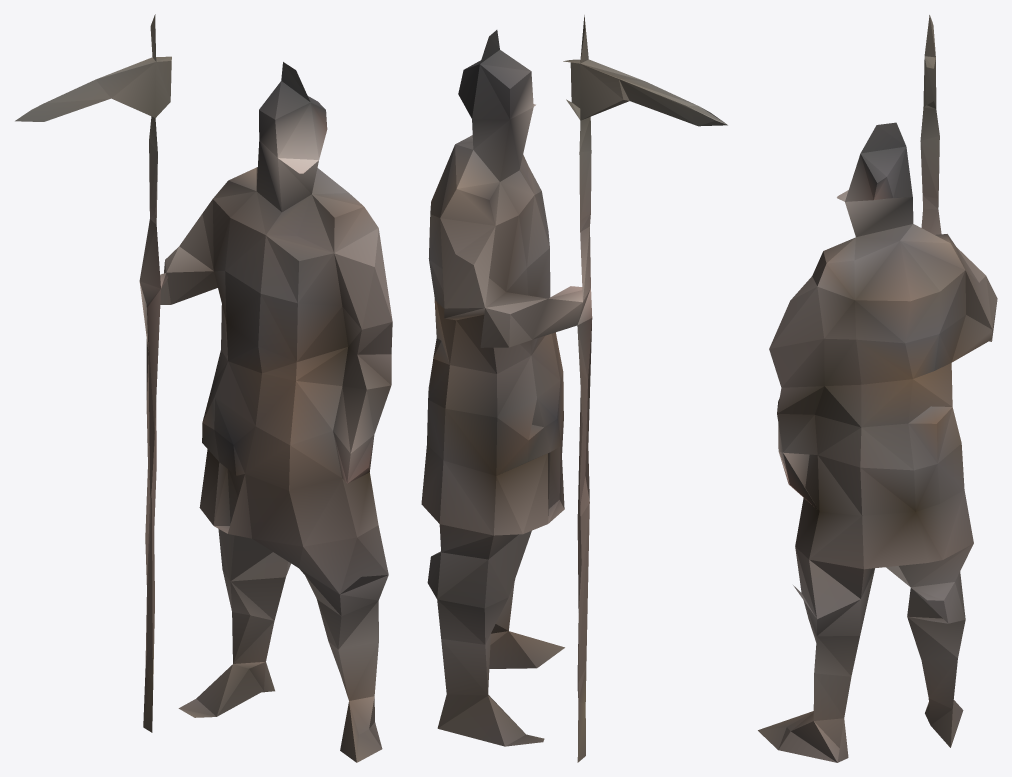
Rendered from guard_lod2.glb.
3 views of the same model, side by side, from view 1: azimuth 30°, elevation 25°; view 2: azimuth 150°, elevation 25°; view 3: azimuth 270°, elevation 25° (orthographic). The views are drawn at different scales.
Parts seen in each view (by area): view 1: geometry_0; view 2: geometry_0; view 3: geometry_0.
Boxes of the visible parts, <box> form: geometry_0: <box>15,14,392,762</box>; geometry_0: <box>421,15,727,762</box>; geometry_0: <box>758,15,997,762</box>.
Size of the model in its own units: 0.5007 by 1.1 by 0.3528.
